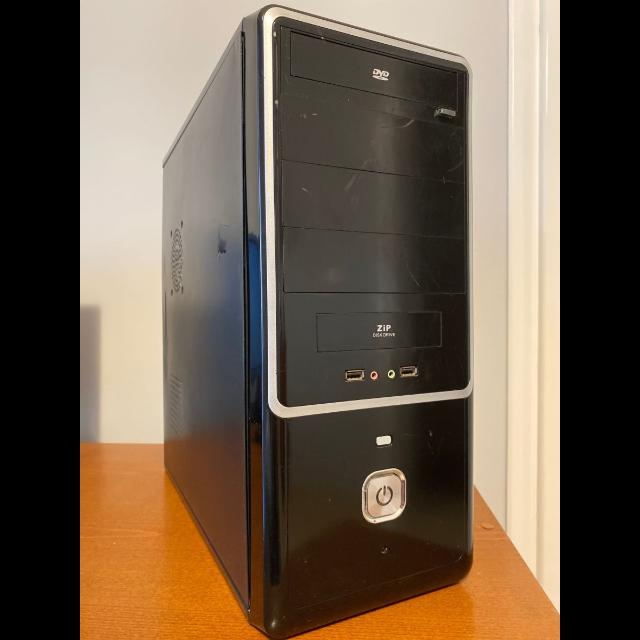Desktop-PC: (166, 9, 472, 631)
